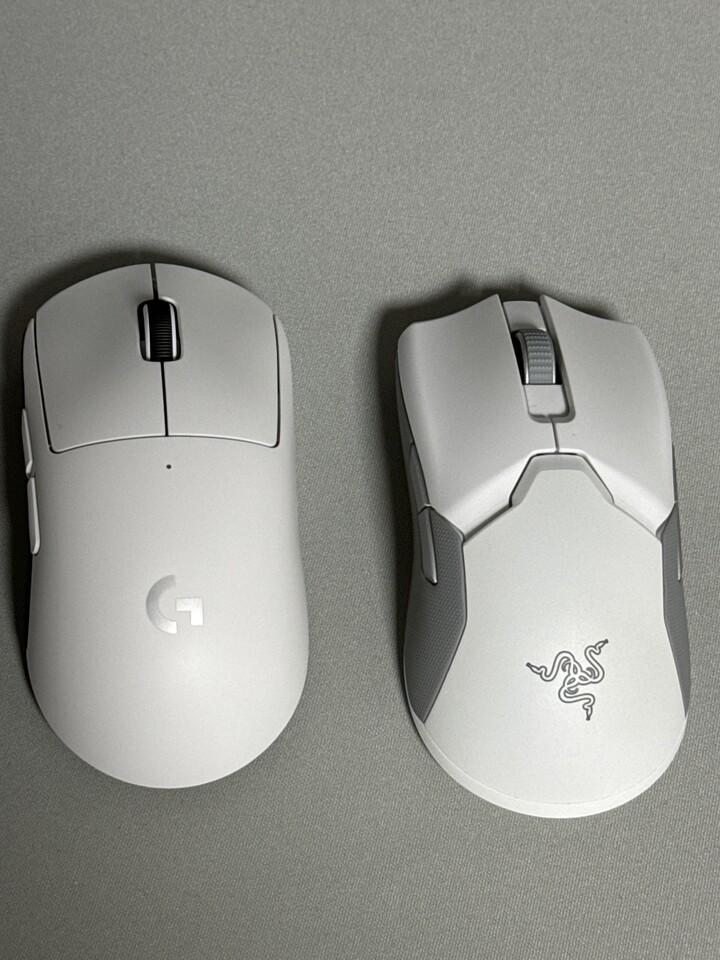mouse: (19, 259, 311, 790), (389, 293, 683, 820)
